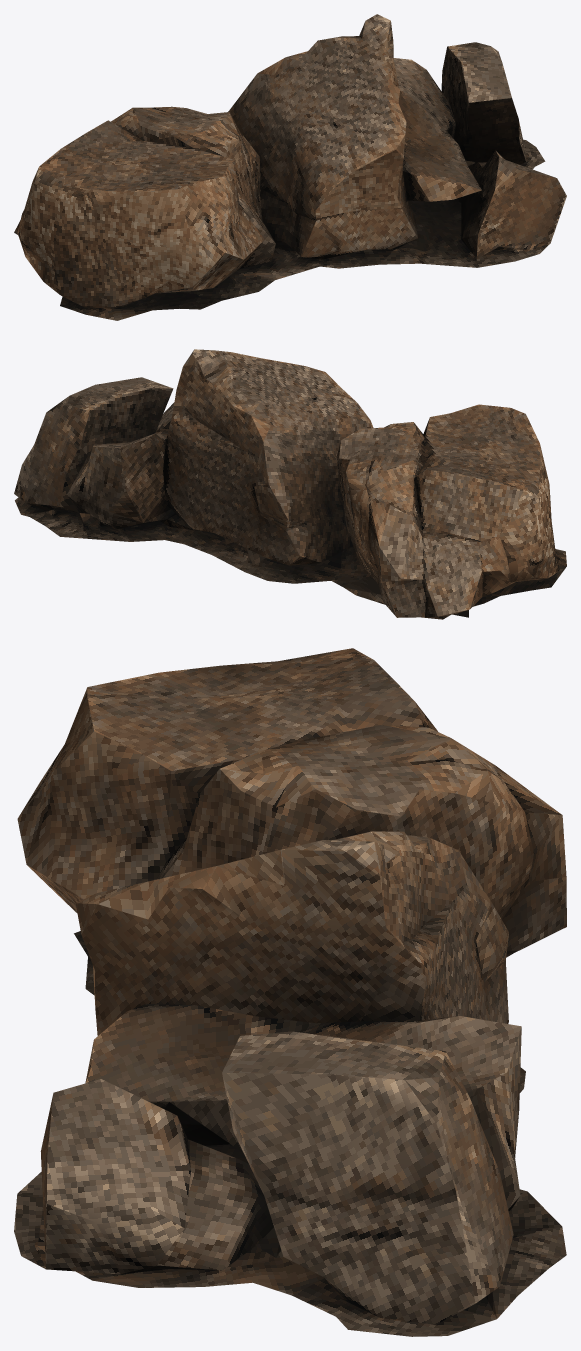
Rendered from namaqualand_boulder_02.glb.
3 views of the same model, one above another, from view 1: azimuth 30°, elevation 25°; view 2: azimuth 150°, elevation 25°; view 3: azimuth 270°, elevation 25° (orthographic). The views are drawn at different scales.
Visible parts, largest first — view 1: namaqualand_boulder_02; view 2: namaqualand_boulder_02; view 3: namaqualand_boulder_02.
Boxes of the visible parts, left/top/right/bottom form: namaqualand_boulder_02: left=14, top=14, right=566, bottom=320; namaqualand_boulder_02: left=14, top=349, right=566, bottom=619; namaqualand_boulder_02: left=14, top=648, right=566, bottom=1336.
Bounding box in the file's own units: 2.52 × 0.8524 × 1.21.
1 material, 1 textured.
